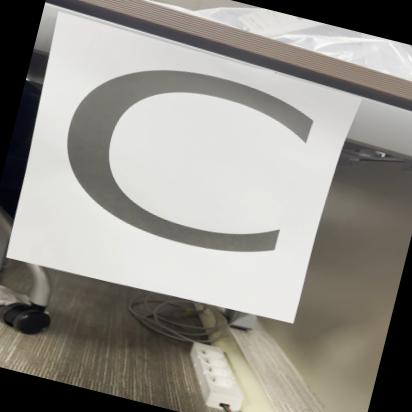seat: (7, 15, 354, 325)
